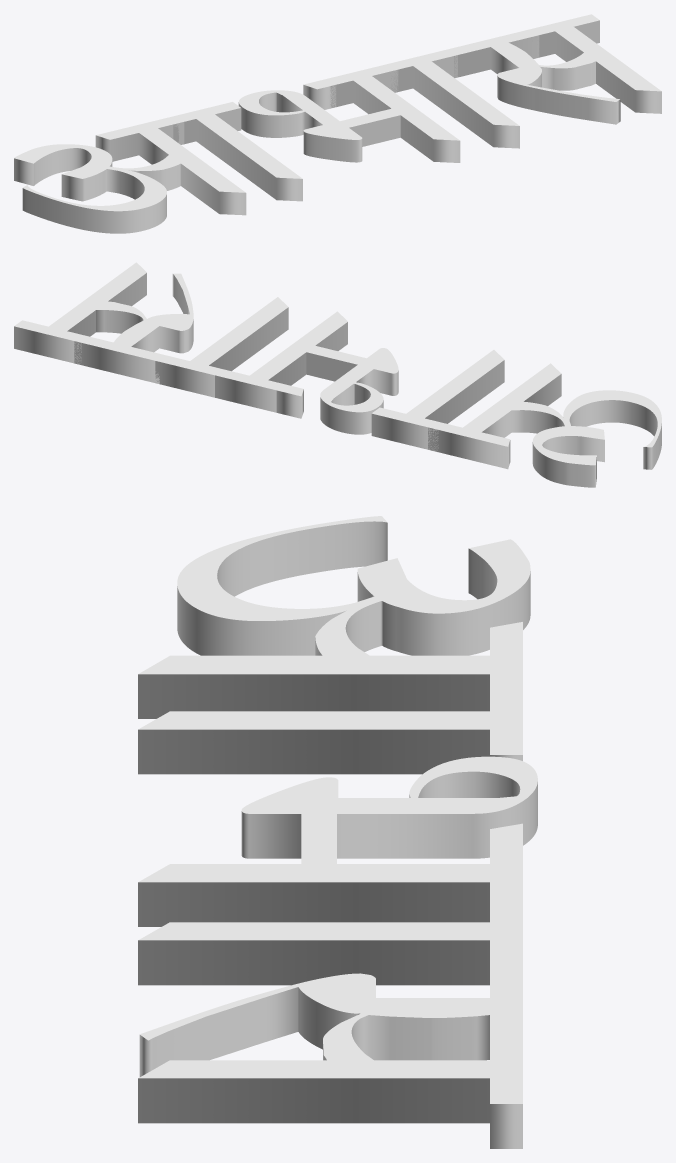
The model's file is pName.gltf.
3 views of the same model, one above another, from view 1: azimuth 30°, elevation 25°; view 2: azimuth 150°, elevation 25°; view 3: azimuth 270°, elevation 25° (orthographic). The views are drawn at different scales.
Parts seen in each view (by area): view 1: Text; view 2: Text; view 3: Text.
Part boxes in pixels (x1=…): Text: x1=14, y1=14, x2=661, y2=233; Text: x1=14, y1=262, x2=661, y2=487; Text: x1=138, y1=516, x2=537, y2=1148.
Size of the model in its own units: 1.69 by 0.06 by 0.4848.
Materials: 1 (1 with a texture image).
